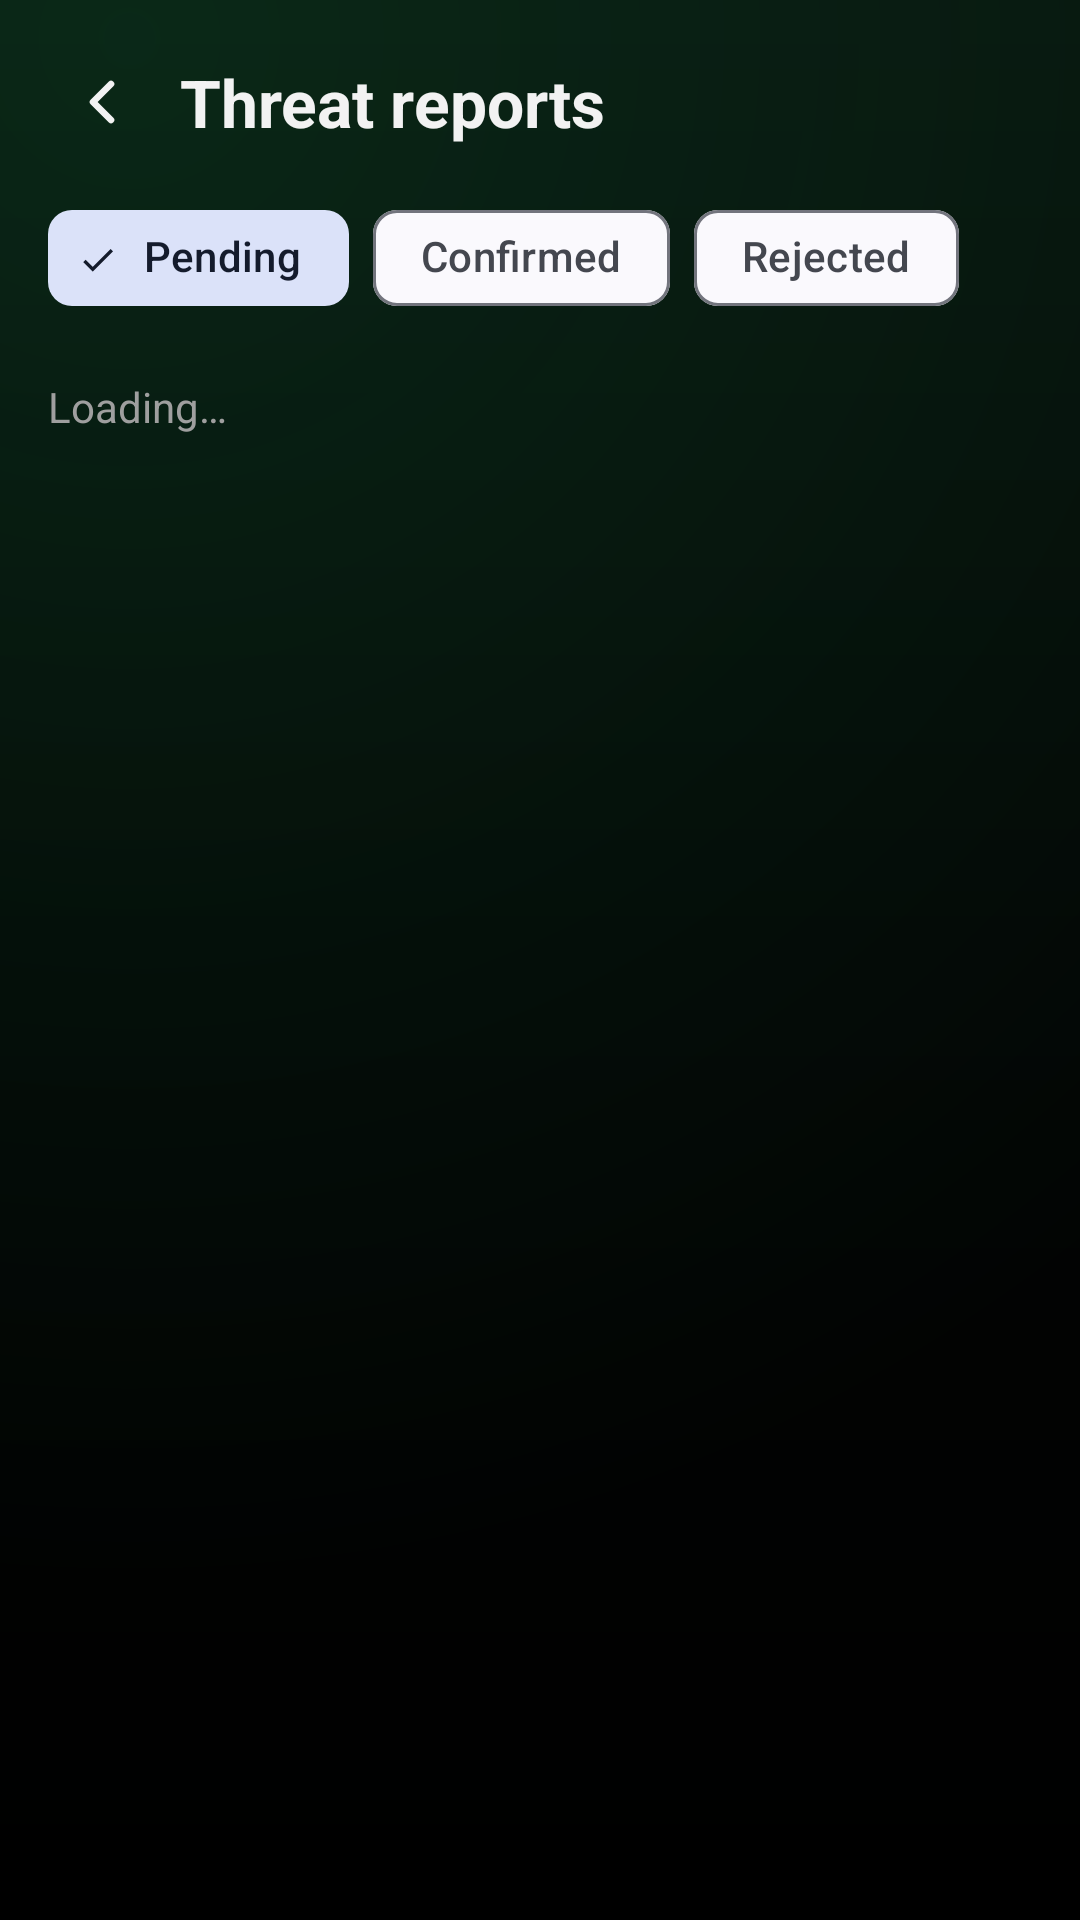

Point at icon controls on the screen. Image size 1080px x 1920px, points as [x,y].
Back: [102,102]
